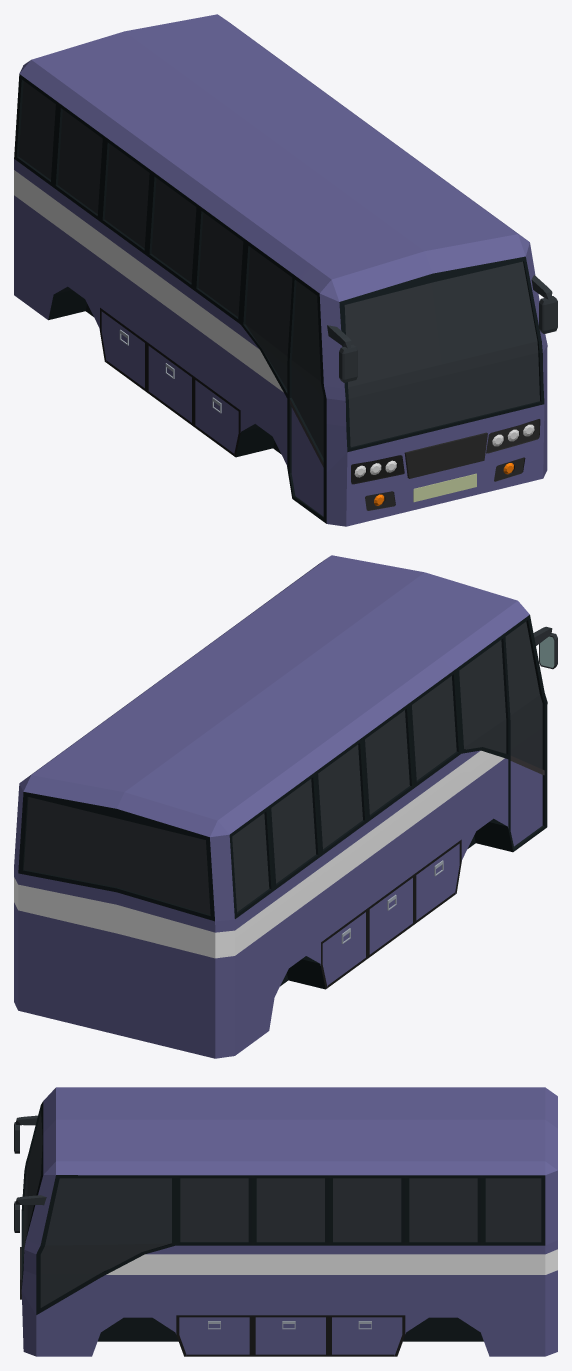
File: Bus_02.fbx
3 views of the same model, one above another, from view 1: azimuth 30°, elevation 25°; view 2: azimuth 150°, elevation 25°; view 3: azimuth 270°, elevation 25° (orthographic). The views are drawn at different scales.
Visible parts, largest first — view 1: Bus_02; view 2: Bus_02; view 3: Bus_02.
Boxes of the visible parts, box(x1,y1,x2,y2) form: Bus_02: box(14, 14, 557, 526); Bus_02: box(14, 555, 557, 1058); Bus_02: box(14, 1087, 557, 1356).
Size of the model in its own units: 236 by 239 by 611.
